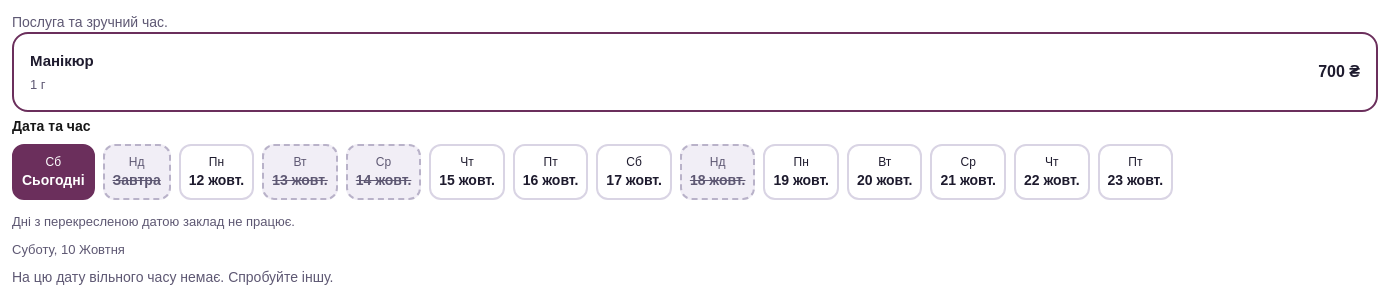
Test case: вибір дати: закриті дні закладу (§17) › клік по закритому дню показує підказку й не змінює дату та слоти
This screenshot has width=1390, height=302.
Click the button with test id "date-option": (137, 172) x1=102 y1=144 x2=171 y2=200
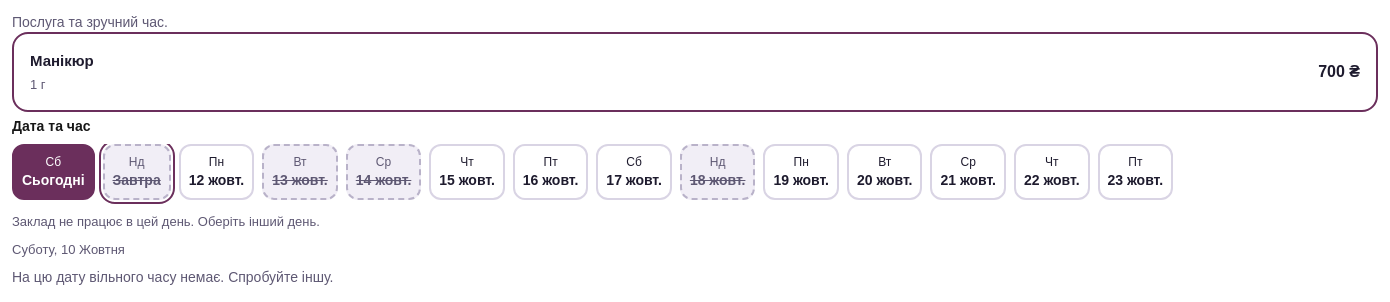
Result: the text "Заклад не працює в цей день. Оберіть інший день." is shown at x1=12 y1=214 x2=320 y2=229
